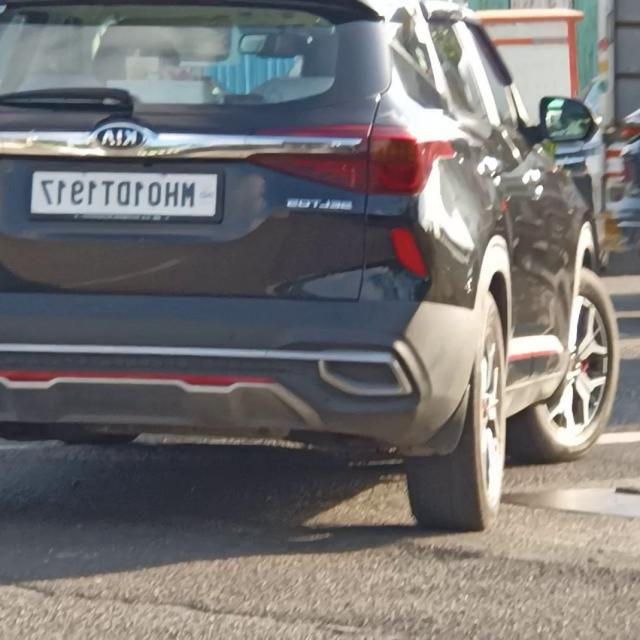license_plate: (22, 158, 230, 232)
